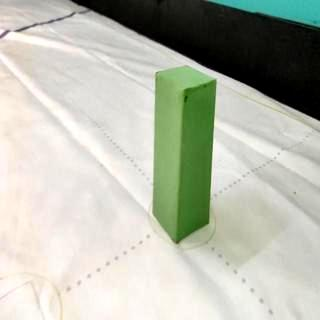greenbox: (152, 62, 218, 244)
